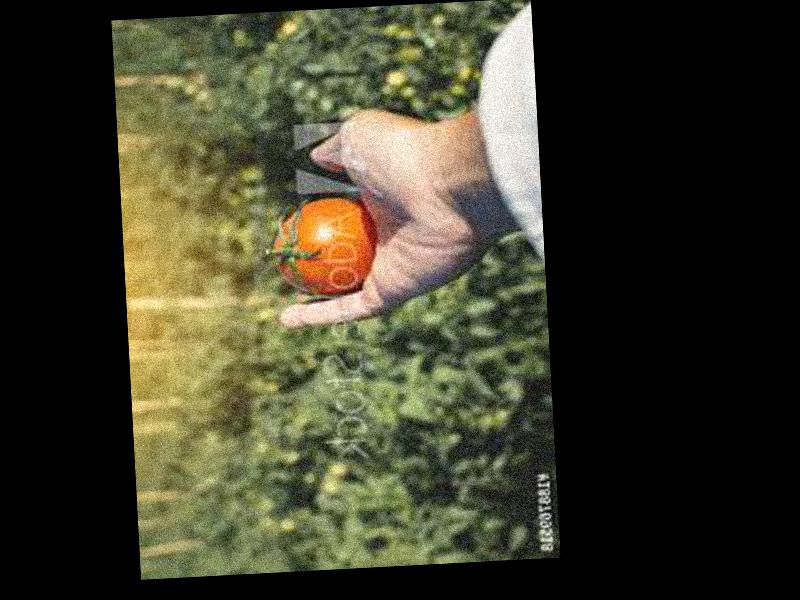Tomato: (273, 198, 374, 299)
